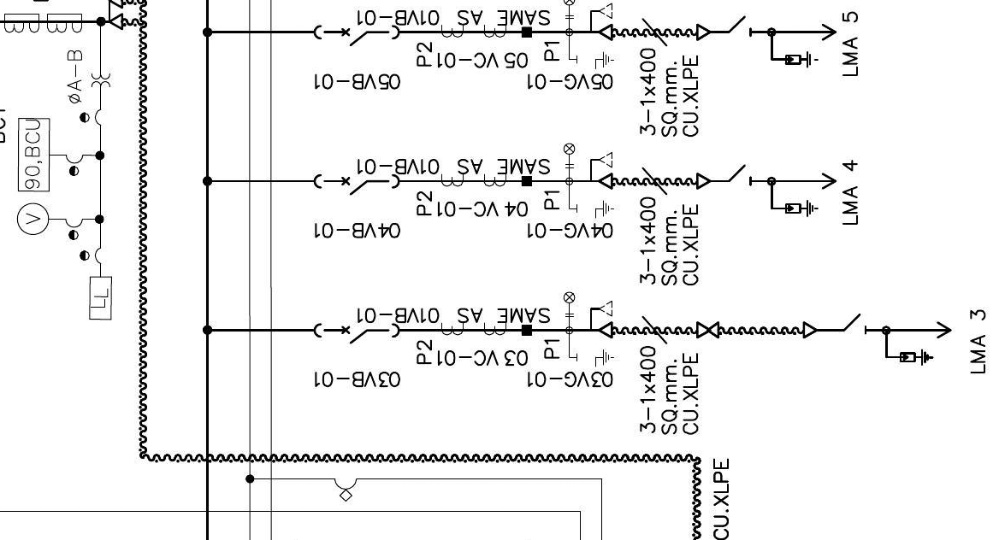22_breaker: (313, 322, 401, 345), (313, 173, 401, 196), (313, 24, 401, 47)
22_ds_la_out: (728, 15, 838, 69), (728, 164, 837, 218), (843, 313, 953, 366)
22_gs: (575, 199, 614, 219), (575, 349, 614, 368), (575, 52, 614, 71)
22_ll: (563, 291, 576, 318), (562, 142, 575, 169)
LL: (88, 275, 114, 321)
terminator_single: (695, 23, 711, 42), (695, 172, 711, 191), (801, 320, 817, 339)
terminator_splicing_kits: (696, 321, 720, 339)
terminator_w_future: (589, 299, 614, 339), (588, 150, 613, 190), (589, 2, 614, 42)
v_m: (16, 202, 50, 236)
